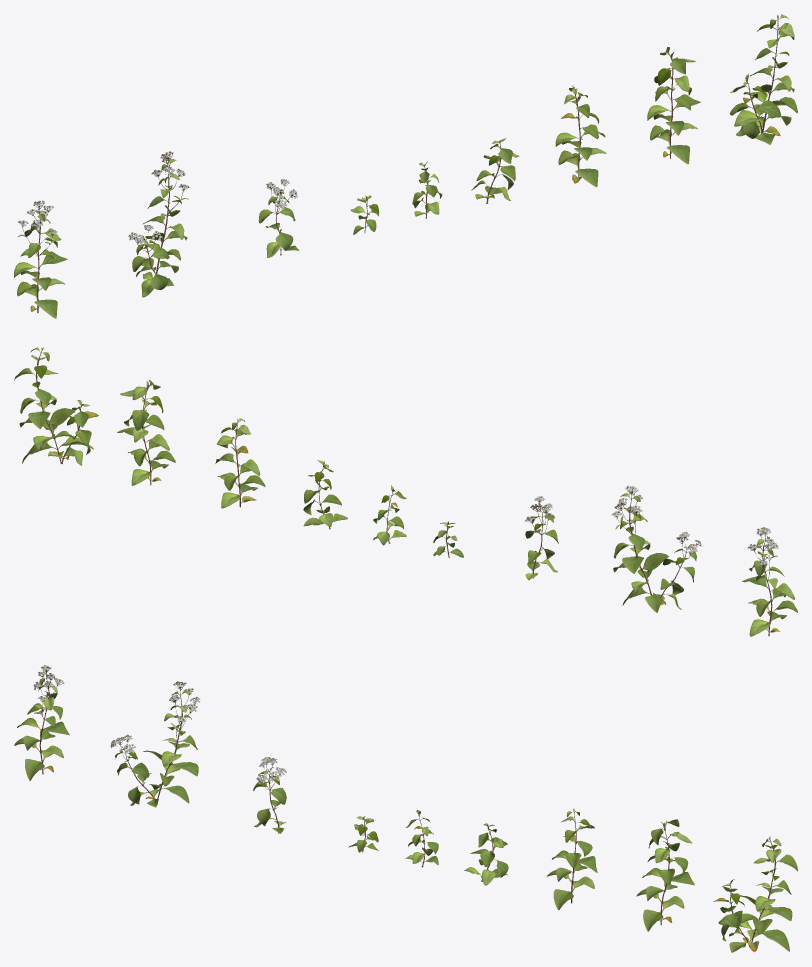
The model's file is shrub_01.glb.
The picture shows the model from 3 angles, top to bottom: view 1: azimuth 30°, elevation 25°; view 2: azimuth 150°, elevation 25°; view 3: azimuth 330°, elevation 25°; orthographic projection. The views are drawn at different scales.
Parts seen in each view (by area): view 1: shrub_01_a; view 2: shrub_01_a; view 3: shrub_01_a.
Part boxes in pixels (box(x1,y1,x2,y2)): shrub_01_a: box(14, 14, 797, 318); shrub_01_a: box(14, 347, 797, 636); shrub_01_a: box(14, 665, 797, 952).
Bounding box in the file's own units: 2.59 × 0.396 × 0.2184.
1 material, 1 textured.
